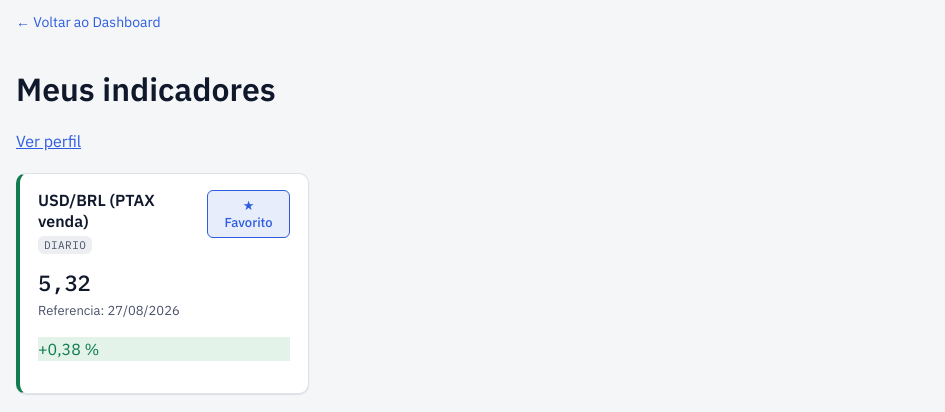
Test case: MeusIndicadores (US2/US3, FR-005/FR-006) › desfavoritar remove o card da lista na hora, sem esperar reload
Check: the heading "USD/BRL (PTAX venda)" is shown, box [38,190,155,231]
What coordinates should you click on to do the following:
click the button "★ Favorito"
I would click on:
 (248, 214)
Its box is [207,190,290,238].
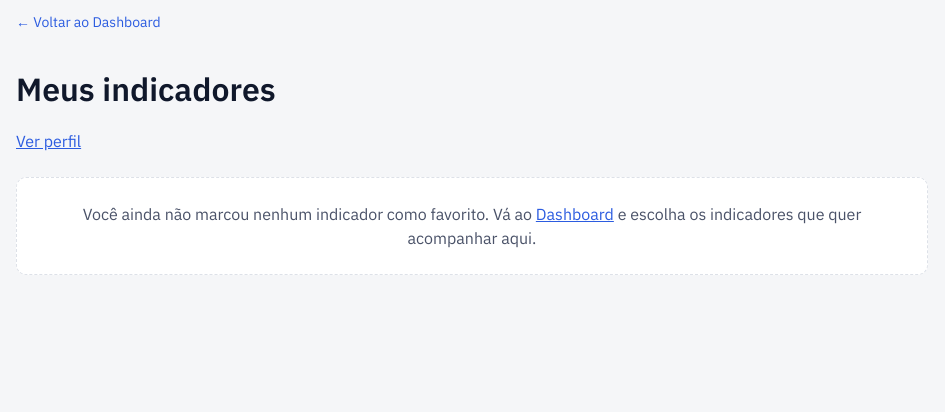
Check: the link "USD/BRL (PTAX venda)" is gone
Check: the text "ainda não marcou nenhum indicador" is shown, box [83,204,532,224]
